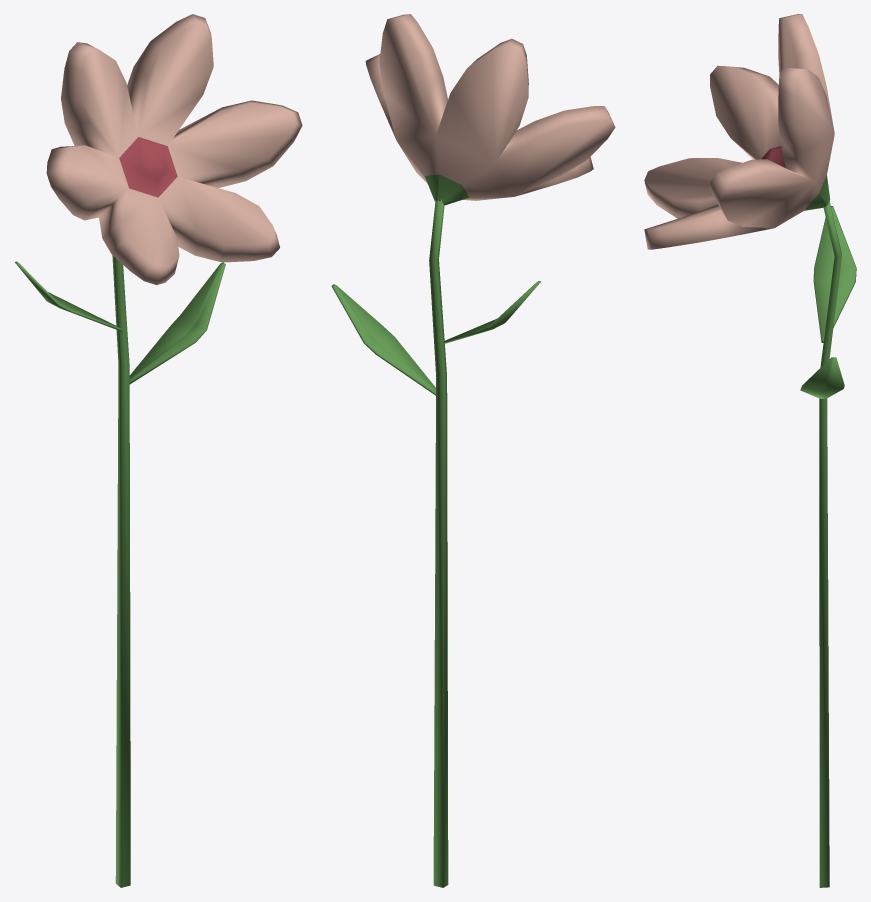
The model's file is prop_flower.fbx.
3 renders of one model, left to right at view 1: azimuth 30°, elevation 25°; view 2: azimuth 150°, elevation 25°; view 3: azimuth 270°, elevation 25°, orthographic. The views are drawn at different scales.
Visible parts, largest first — view 1: Flower_01.001; view 2: Flower_01.001; view 3: Flower_01.001.
Boxes of the visible parts, box(x1,y1,x2,y2) form: Flower_01.001: box(15, 14, 302, 887); Flower_01.001: box(331, 14, 615, 887); Flower_01.001: box(644, 14, 856, 887).
Bounding box in the file's own units: 10.98 × 36.1 × 8.23.
